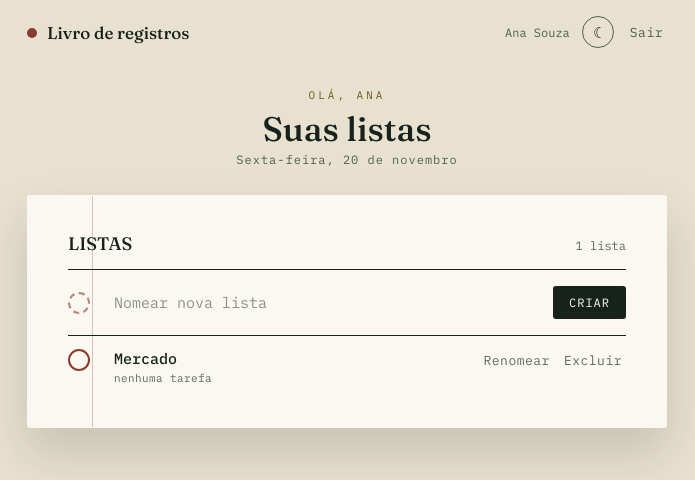
Test: ListsPage › exclui uma lista depois de confirmar
What coordinates should you click on to do the following:
click the button named "Excluir \"Mercado\""
I would click on:
 (593, 360)
Its box is [560,350,626,371].
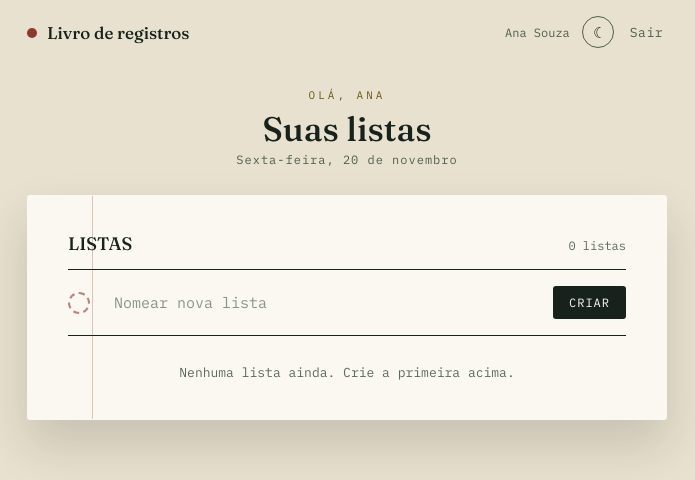
Check: the text "Nenhuma lista ainda. Crie a primeira acima." is shown, box [179,364,515,381]
